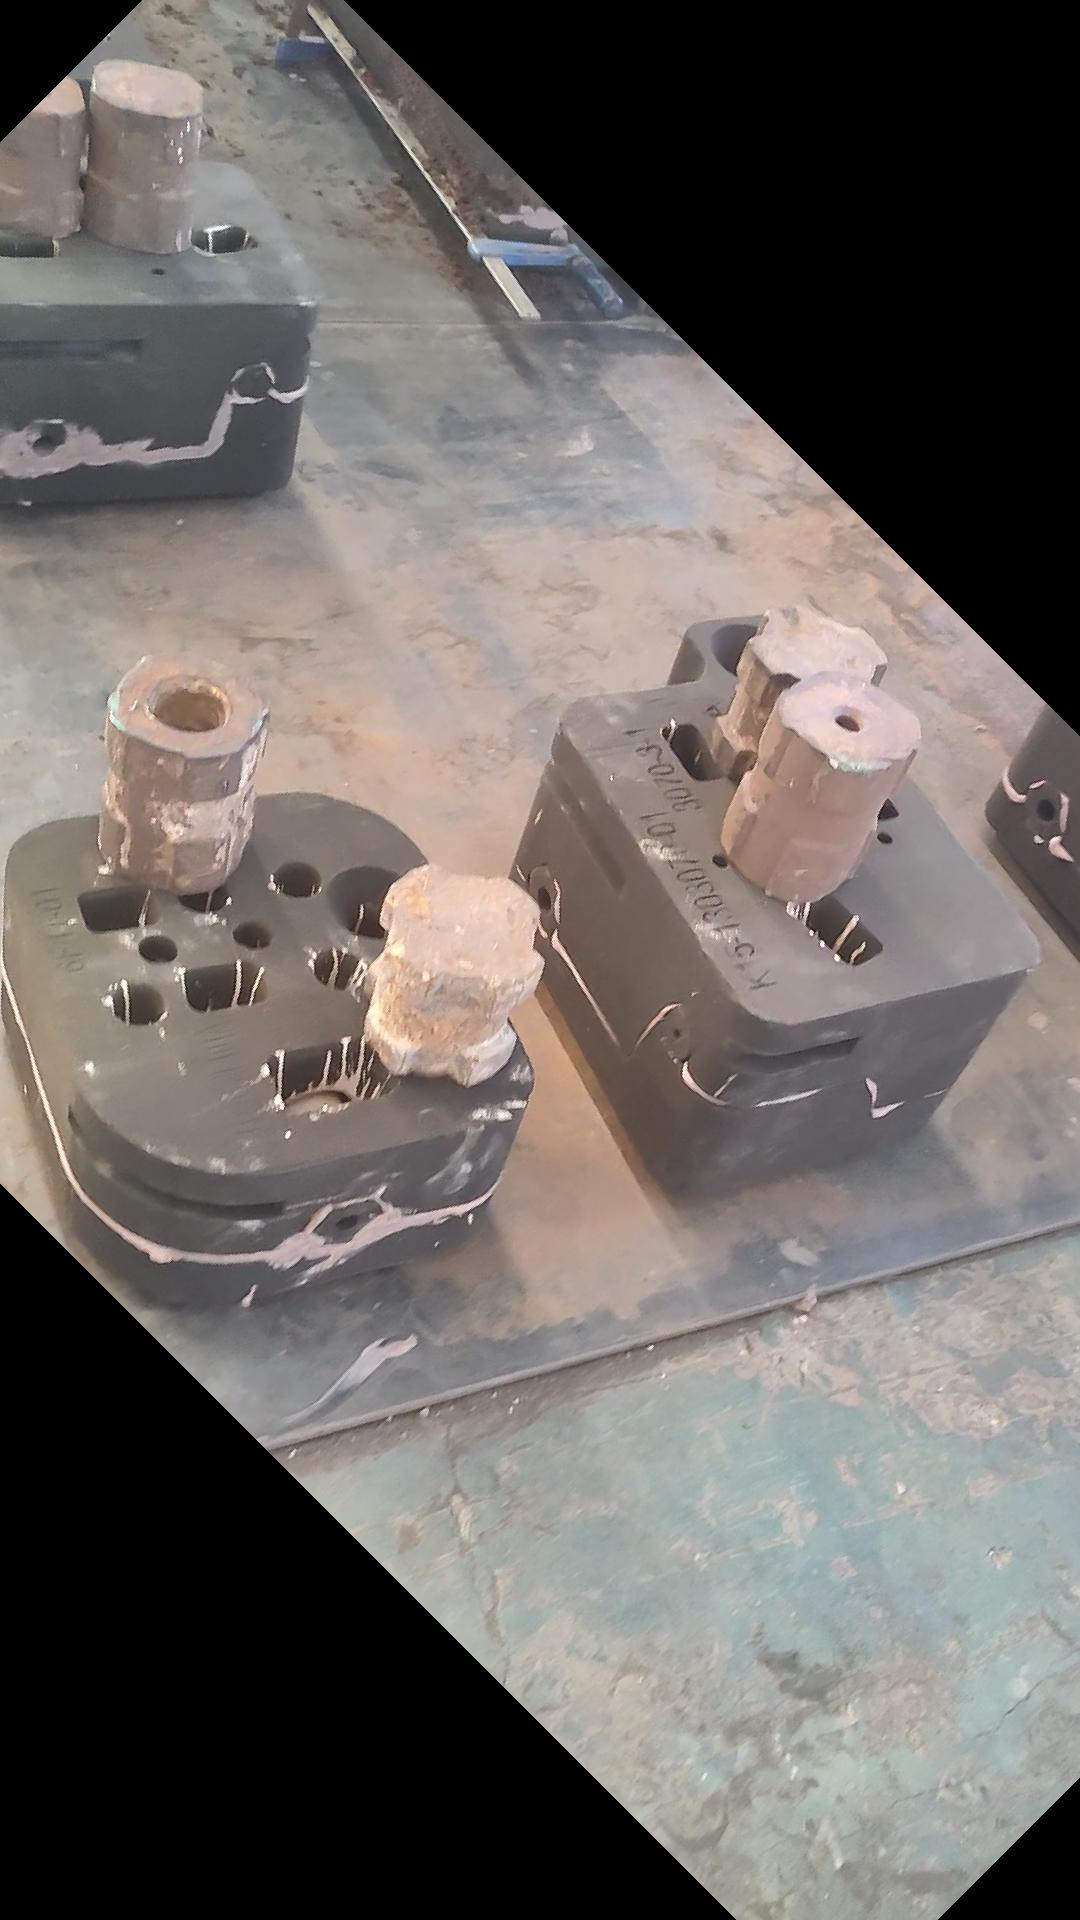pouring hole: (320, 866, 418, 938), (708, 622, 789, 676)
